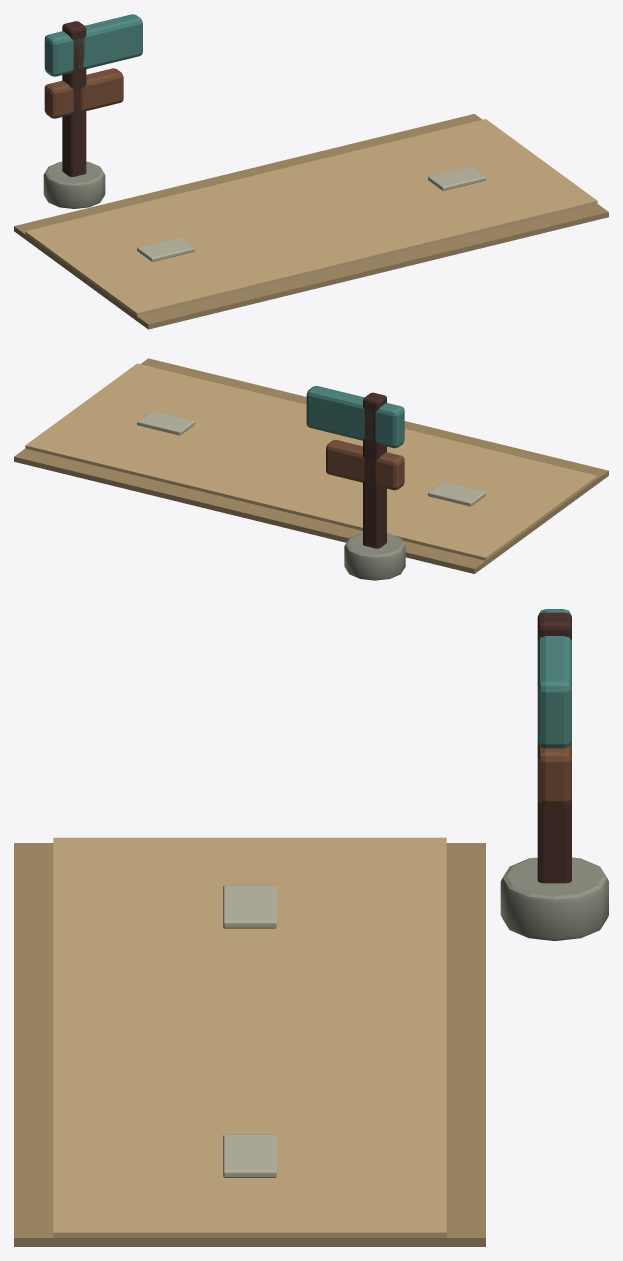
The model's file is path.glb.
The picture shows the model from 3 angles, top to bottom: view 1: azimuth 30°, elevation 25°; view 2: azimuth 150°, elevation 25°; view 3: azimuth 270°, elevation 25°; orthographic projection. The views are drawn at different scales.
Visible parts, largest first — view 1: path · path, path · path_edge, path · copper, path · wood, path · wood_light, path · stone, path · stone_light; view 2: path · path, path · path_edge, path · copper, path · wood, path · wood_light, path · stone, path · stone_light; view 3: path · path, path · path_edge, path · stone, path · stone_light, path · copper, path · wood, path · wood_light.
Boxes of the visible parts, x1,y1,x2,y2 form: path · path: [25, 119, 597, 316]; path · path_edge: [14, 114, 608, 329]; path · copper: [44, 14, 142, 76]; path · wood: [62, 21, 86, 176]; path · wood_light: [44, 68, 123, 118]; path · stone: [43, 161, 105, 208]; path · stone_light: [137, 166, 485, 261]; path · path: [25, 363, 597, 560]; path · path_edge: [14, 358, 608, 573]; path · copper: [306, 386, 404, 448]; path · wood: [363, 392, 386, 548]; path · wood_light: [326, 440, 404, 490]; path · stone: [344, 533, 405, 580]; path · stone_light: [137, 410, 485, 506]; path · path: [53, 837, 446, 1237]; path · path_edge: [14, 843, 485, 1246]; path · stone: [500, 857, 608, 940]; path · stone_light: [223, 885, 276, 1177]; path · copper: [537, 609, 571, 748]; path · wood: [537, 612, 571, 883]; path · wood_light: [537, 741, 571, 805].
Size of the model in its own units: 0.95 by 0.34 by 0.605.
